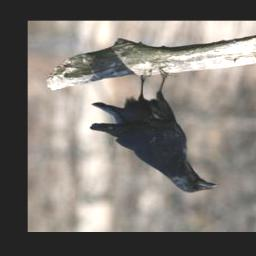Crow: (90, 65, 218, 196)
